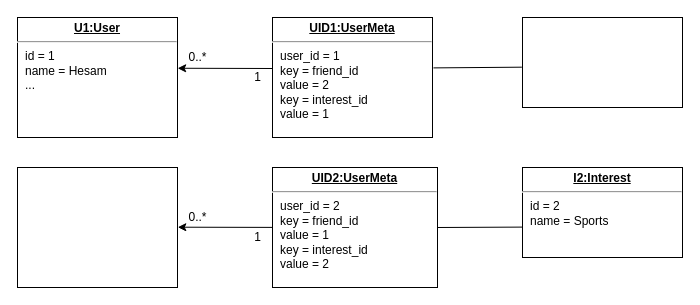
Image size: 700x305. Some labels were removed from this diagram. The shapes that lost their labels are listed below. From the top down, each one's centre as x and y in pixels, then its label:
[602,62]: I1:Interest id = 1 name = Music
[97,227]: U2:User id = 2 name = Ali ...
